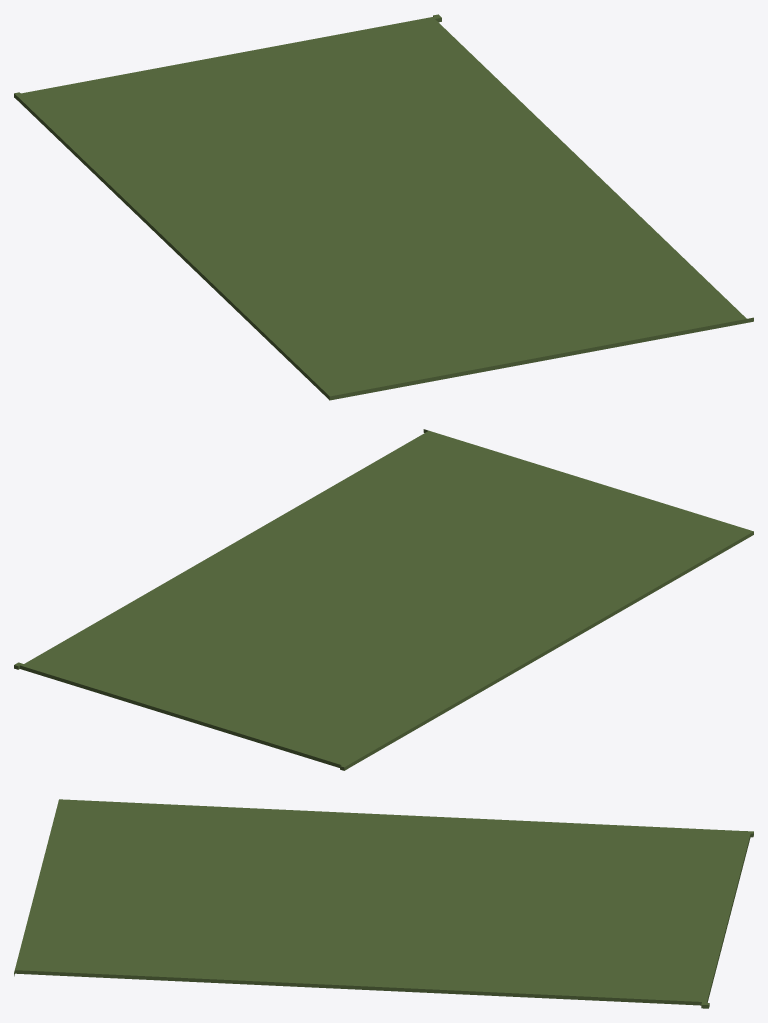
Rendered from umgebung_pflanzbeet.glb.
3 views of the same model, one above another, from view 1: azimuth 30°, elevation 25°; view 2: azimuth 150°, elevation 25°; view 3: azimuth 270°, elevation 25° (orthographic). The views are drawn at different scales.
Parts seen in each view (by area): view 1: umgebung_pflanzbeet__TIB Farbe 88-108-62; view 2: umgebung_pflanzbeet__TIB Farbe 88-108-62; view 3: umgebung_pflanzbeet__TIB Farbe 88-108-62.
Boxes of the visible parts, x1,y1,x2,y2 form: umgebung_pflanzbeet__TIB Farbe 88-108-62: (14, 14, 753, 400); umgebung_pflanzbeet__TIB Farbe 88-108-62: (14, 429, 753, 770); umgebung_pflanzbeet__TIB Farbe 88-108-62: (14, 799, 753, 1008).
Size of the model in its own units: 7.42 by 0.0606 by 11.27.
